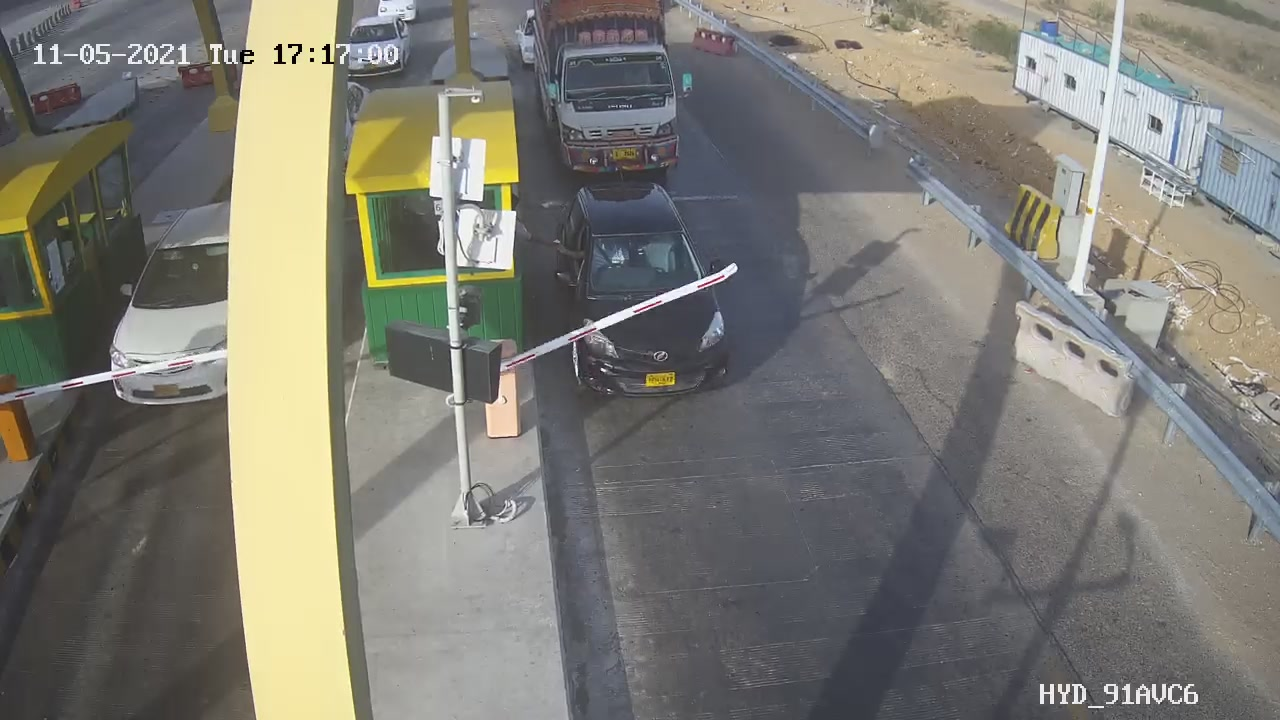F1: (533, 170, 752, 420)
